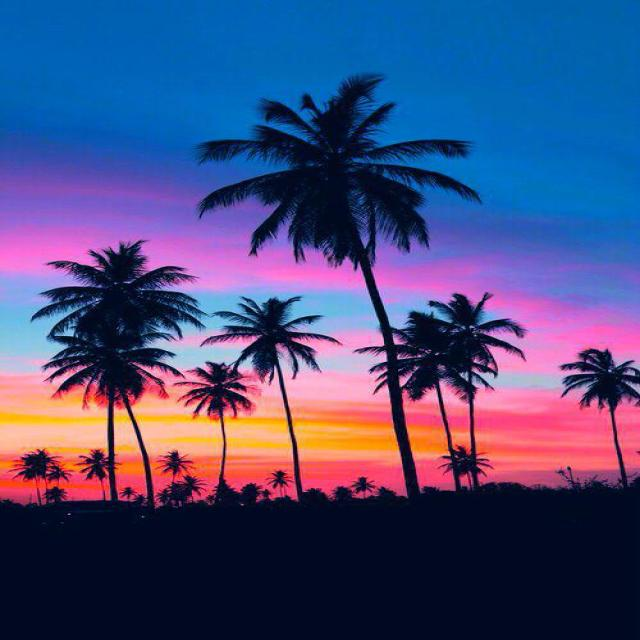other: (25, 377, 505, 478)
